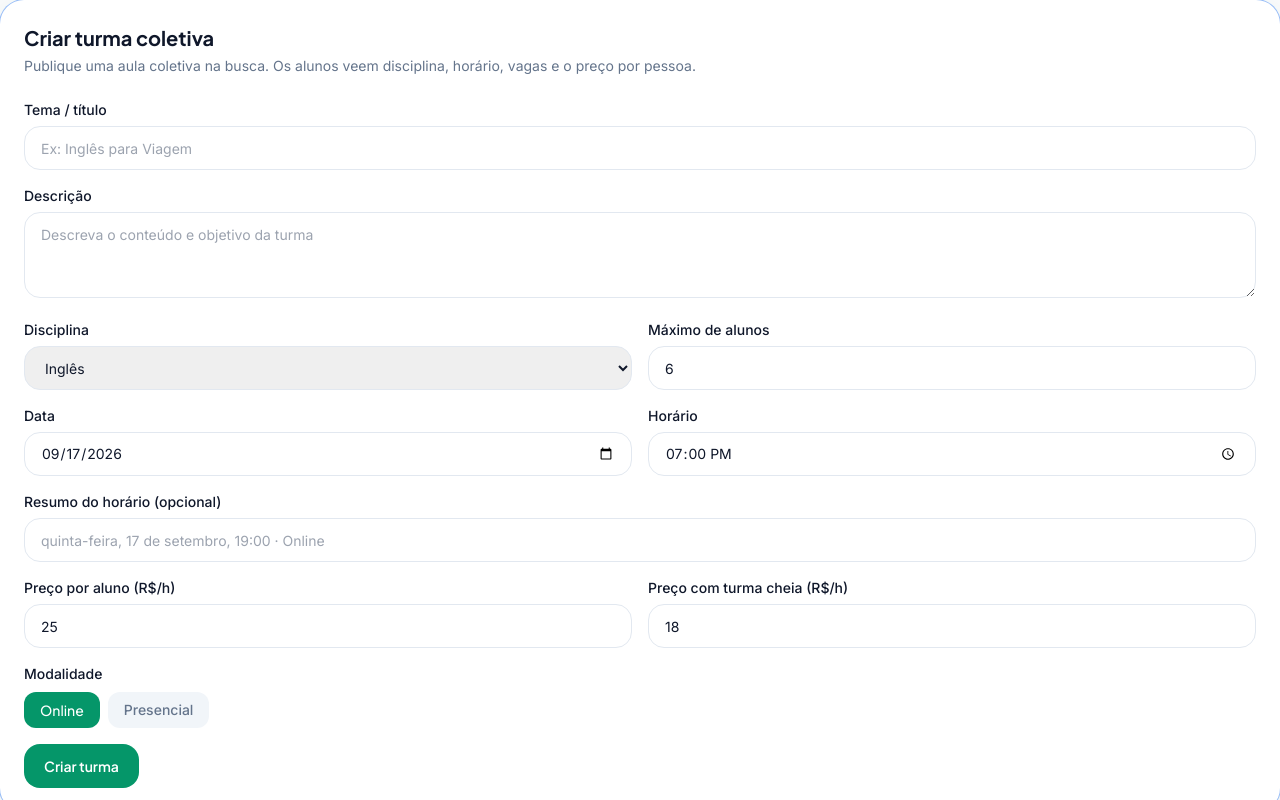
Scenario: CreateHubForm › shows an error when hub creation fails
The image size is (1280, 800).
Type "Inglês para Viagem" into the field labelled "Tema / título" at (640, 148), box [24,126,1256,170]
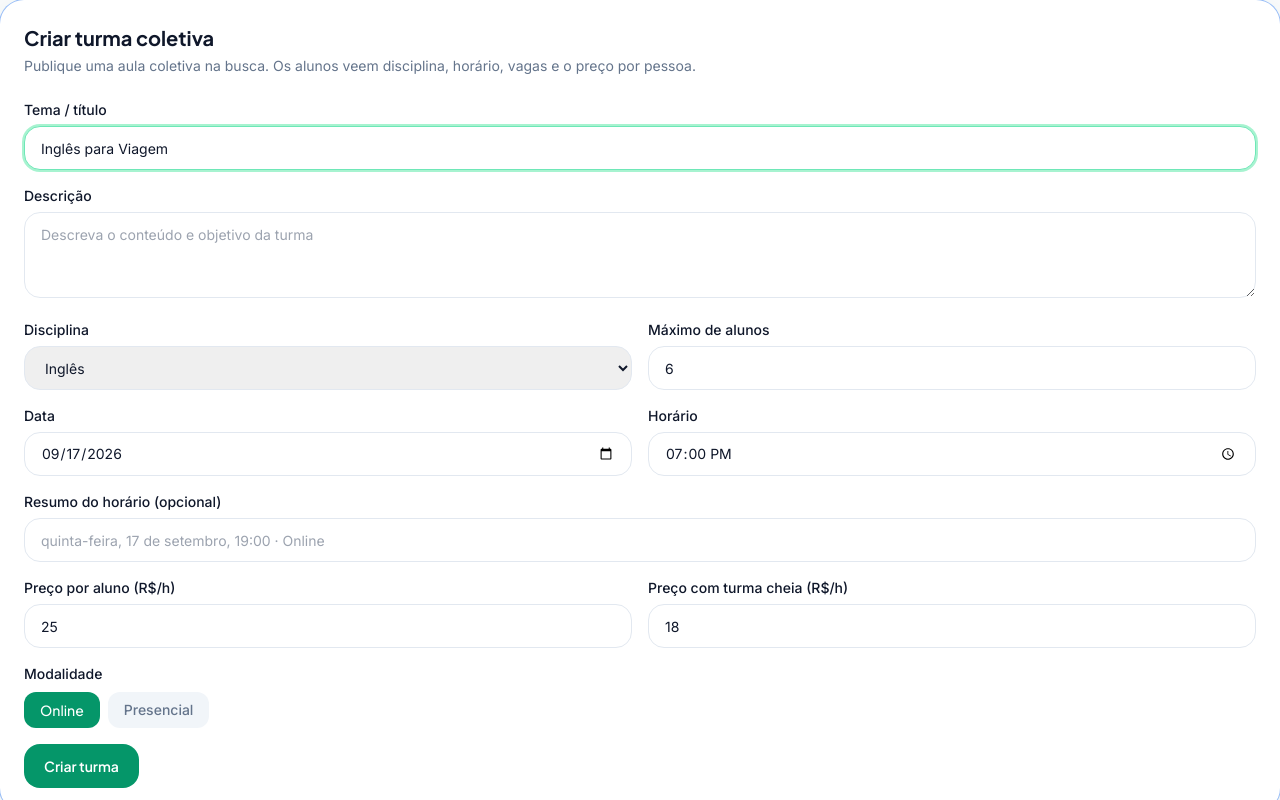
Type "Frases essenciais para aeroporto e hotel." into the text box labelled "Descrição" at (640, 255), box [24,212,1256,298]
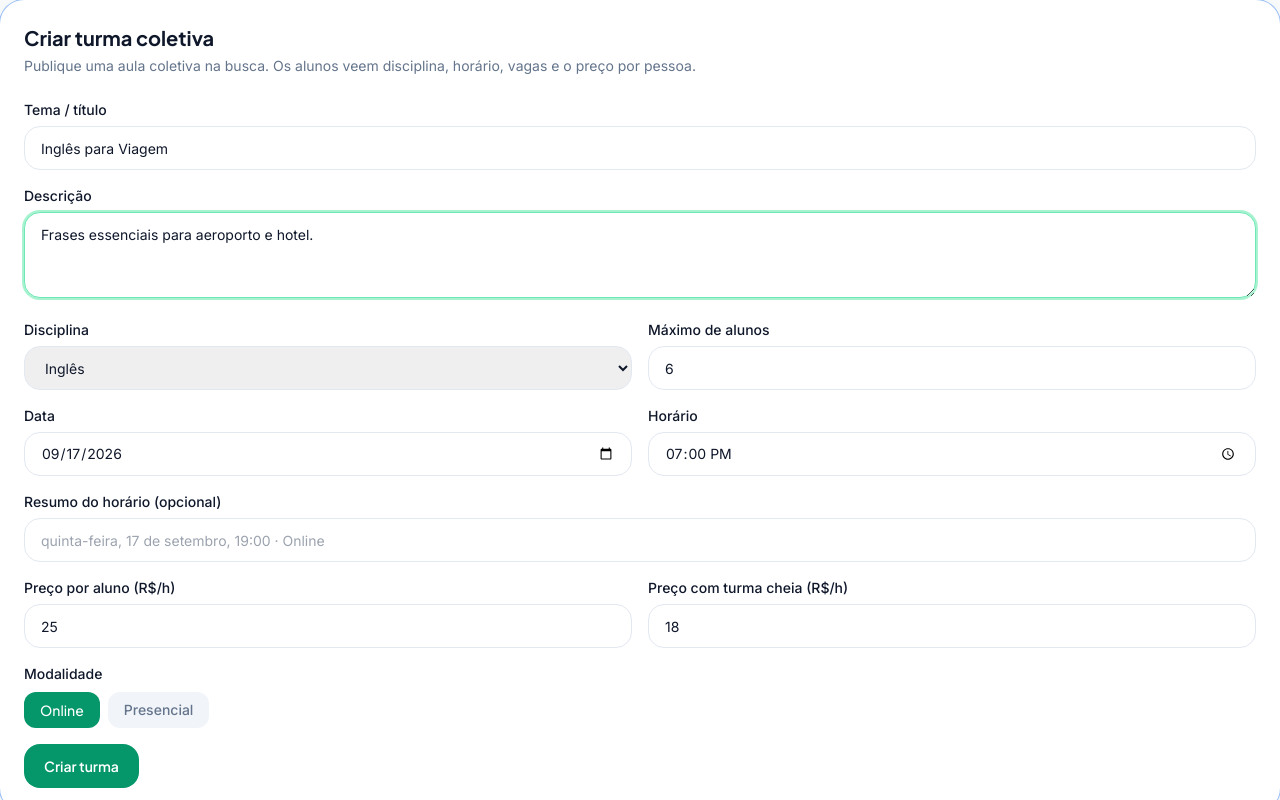
Click the button "Criar turma" at (81, 766), box [24,744,139,788]
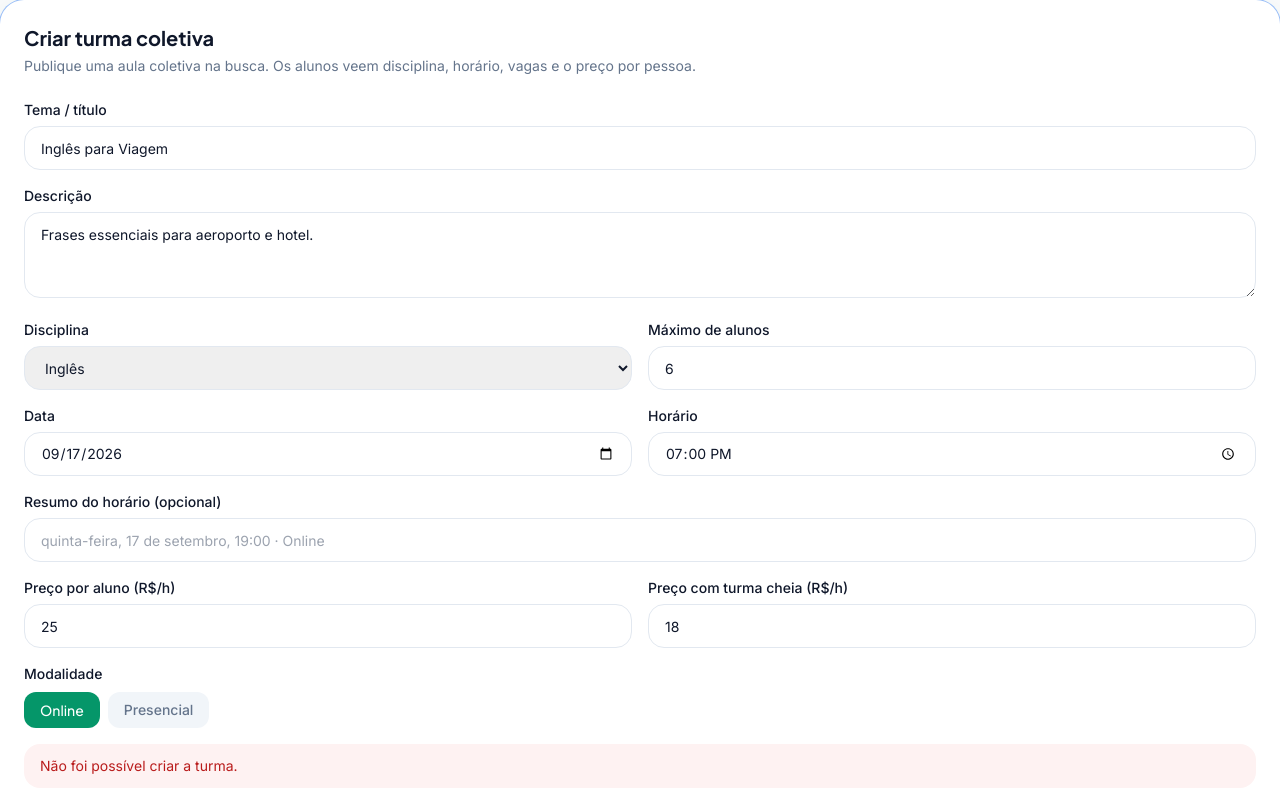
expect the message reads "Não foi possível criar a turma.": met, box [40,757,238,774]
